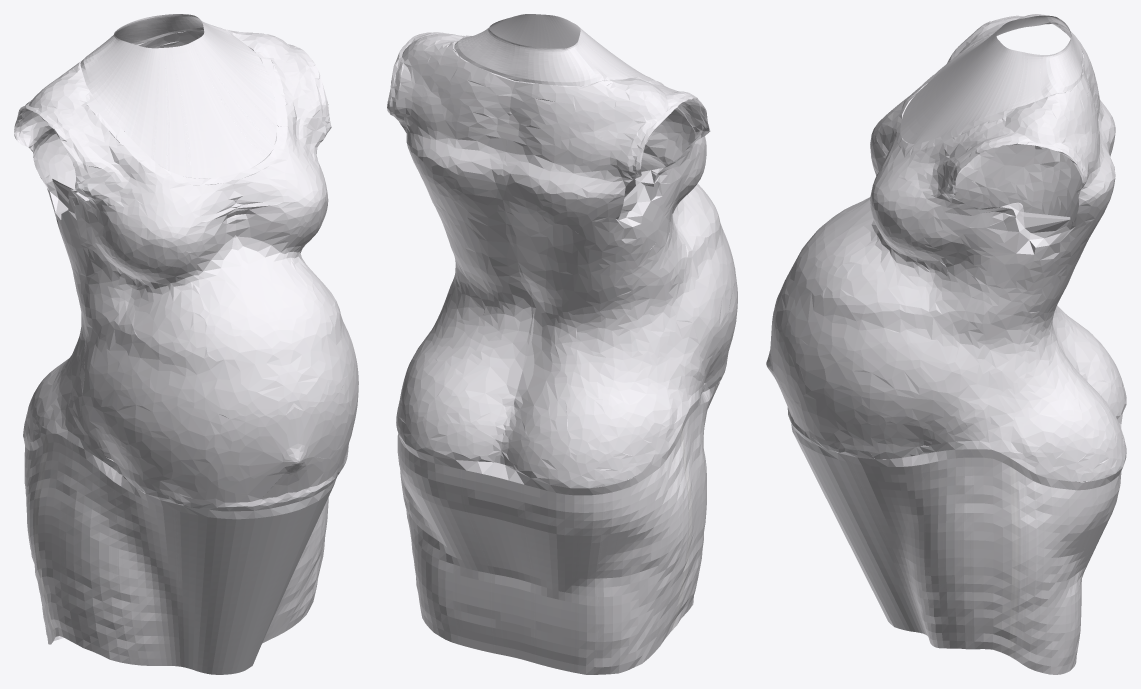
Rendered from sarah-v2-spandex-cloth.glb.
The picture shows the model from 3 angles, left to right: view 1: azimuth 30°, elevation 25°; view 2: azimuth 150°, elevation 25°; view 3: azimuth 270°, elevation 25°; orthographic projection. The views are drawn at different scales.
Parts seen in each view (by area): view 1: sarah-v2-shirt-spandex-cloth; view 2: sarah-v2-shirt-spandex-cloth; view 3: sarah-v2-shirt-spandex-cloth.
Part boxes in pixels (x1,y1,x2,y2): sarah-v2-shirt-spandex-cloth: [14, 14, 358, 674]; sarah-v2-shirt-spandex-cloth: [387, 14, 737, 674]; sarah-v2-shirt-spandex-cloth: [766, 14, 1126, 674].
Size of the model in its own units: 0.4365 by 0.9067 by 0.4955.
1 material, 1 textured.
